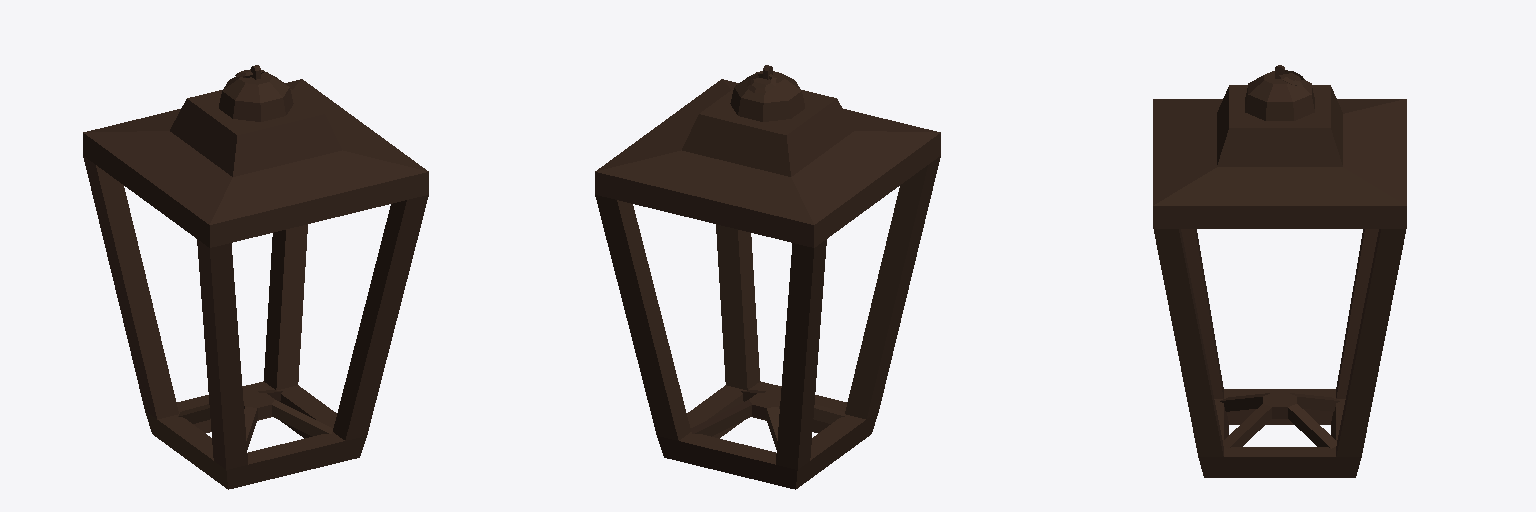
3 views of the same model, side by side, from view 1: azimuth 30°, elevation 25°; view 2: azimuth 150°, elevation 25°; view 3: azimuth 270°, elevation 25° (orthographic).
Visible parts, largest first — view 1: LanternCage, LanternTop, CandleHolder; view 2: LanternCage, LanternTop, CandleHolder; view 3: LanternCage, CandleHolder, LanternTop.
Boxes of the visible parts, box(x1,y1,x2,y2) form: LanternCage: box(83, 79, 428, 489); LanternTop: box(219, 71, 293, 121); CandleHolder: box(178, 390, 332, 449); LanternCage: box(595, 79, 940, 489); LanternTop: box(730, 71, 804, 121); CandleHolder: box(691, 390, 845, 449); LanternCage: box(1153, 85, 1406, 477); CandleHolder: box(1220, 393, 1339, 448); LanternTop: box(1245, 71, 1314, 120).
Bounding box in the file's own units: 0.25 × 0.4137 × 0.25.
Materials: 1 (1 with a texture image).